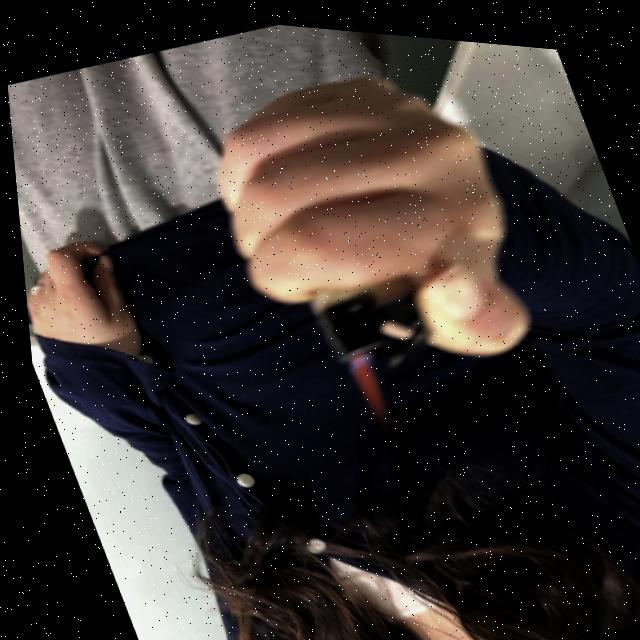Fire: (334, 341, 396, 431)
